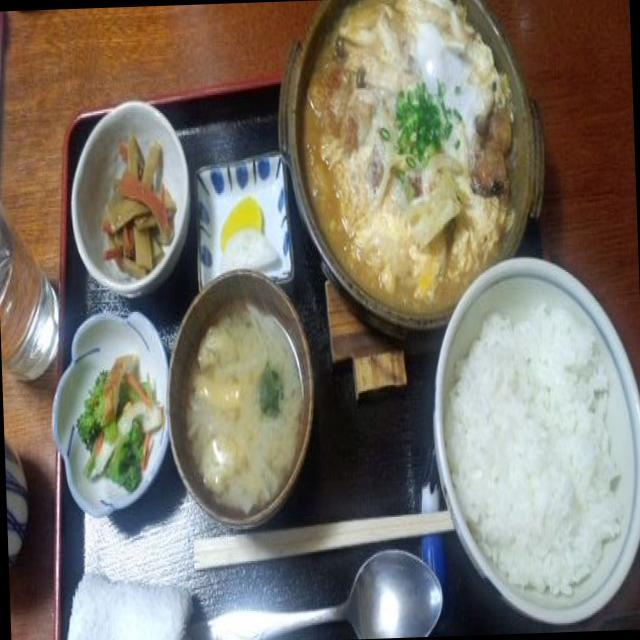Rice: (439, 286, 633, 599)
